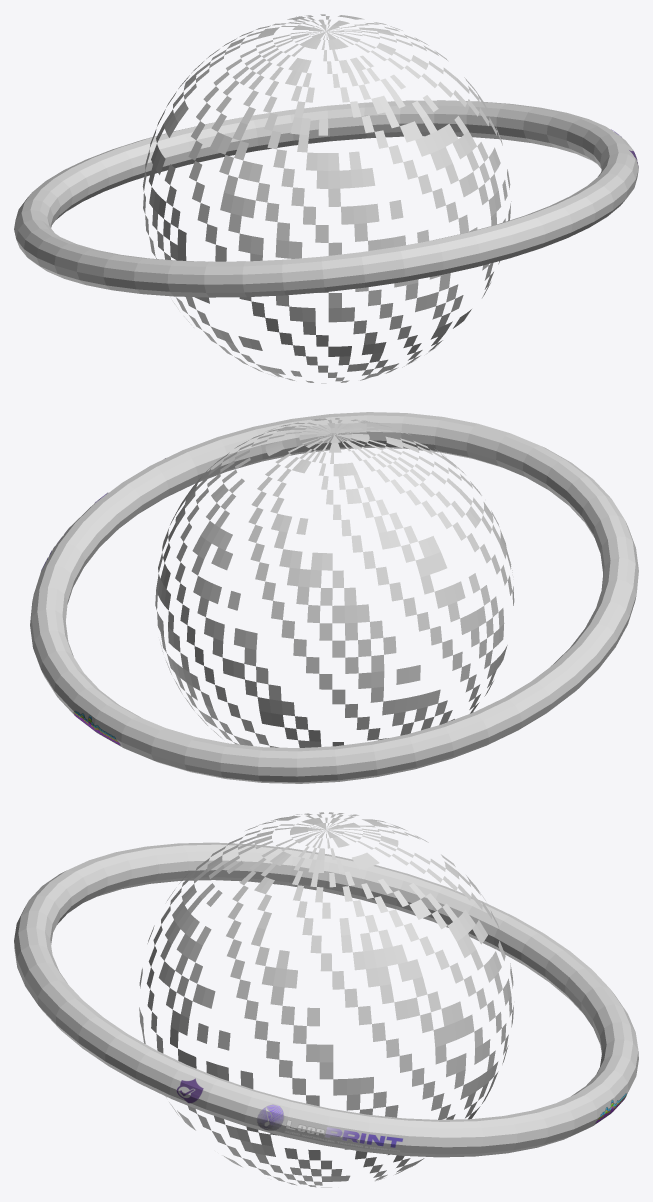
Rendered from sphereV4.3.3.glb.
3 renders of one model, top to bottom at view 1: azimuth 30°, elevation 25°; view 2: azimuth 150°, elevation 25°; view 3: azimuth 270°, elevation 25°, orthographic. The views are drawn at different scales.
Parts seen in each view (by area): view 1: Torus, Sphere; view 2: Torus, Sphere; view 3: Torus, Sphere, loopPrint-header.
Part boxes in pixels (bbox=[...]): Torus: bbox=[14, 100, 638, 297]; Sphere: bbox=[142, 14, 511, 383]; Torus: bbox=[30, 412, 638, 783]; Sphere: bbox=[155, 418, 514, 747]; Torus: bbox=[14, 842, 638, 1157]; Sphere: bbox=[139, 812, 513, 1187]; loopPrint-header: bbox=[257, 1104, 403, 1151].
Size of the model in its own units: 17.65 by 10 by 16.64.
Materials: 3 (3 with a texture image).
